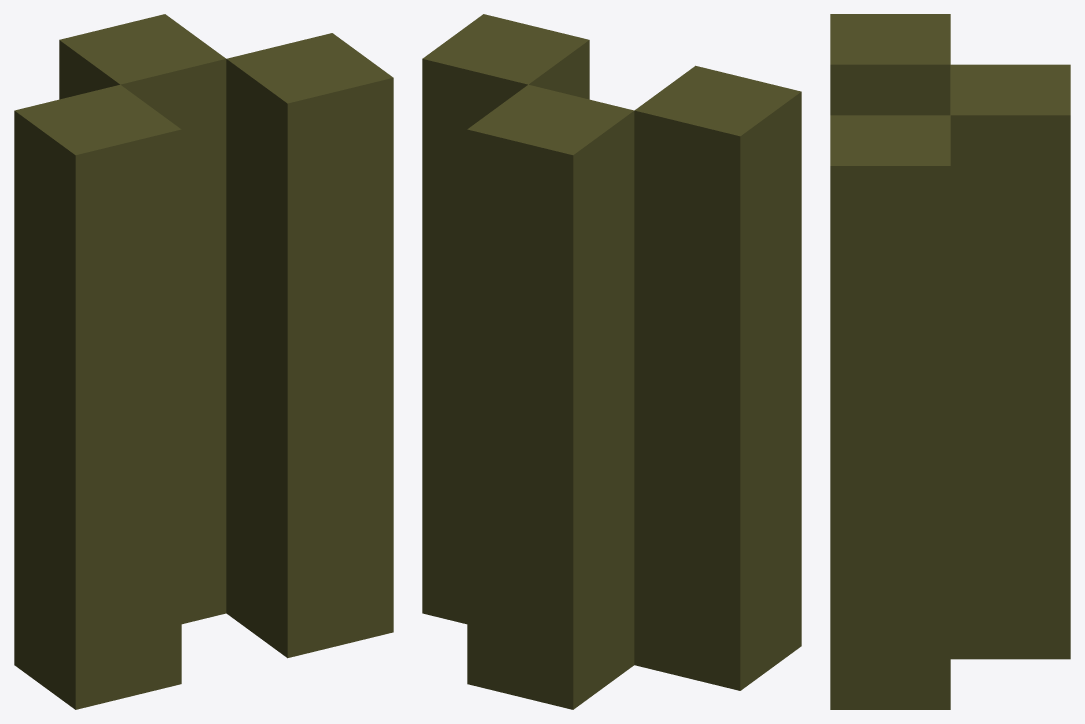
The model's file is NB_TR_F_SkirtPiece_2.fbx.
The picture shows the model from 3 angles, left to right: view 1: azimuth 30°, elevation 25°; view 2: azimuth 150°, elevation 25°; view 3: azimuth 270°, elevation 25°; orthographic projection.
Visible parts, largest first — view 1: SkirtPiece_2; view 2: SkirtPiece_2; view 3: SkirtPiece_2.
Part boxes in pixels (x1,y1,x2,y2): SkirtPiece_2: [14, 14, 393, 709]; SkirtPiece_2: [422, 14, 801, 709]; SkirtPiece_2: [830, 14, 1070, 709].
Bounding box in the file's own units: 3 × 5 × 2.
Materials: 1 (1 with a texture image).
